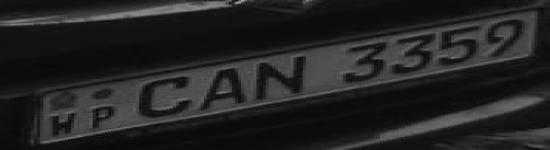3: (341, 40, 390, 87), (388, 32, 437, 76)
5: (436, 24, 483, 66)
9: (483, 17, 529, 60)
A: (197, 68, 251, 111)
C: (131, 74, 197, 118)
N: (250, 53, 311, 101)
P: (84, 102, 120, 131)
W: (45, 110, 82, 138)
